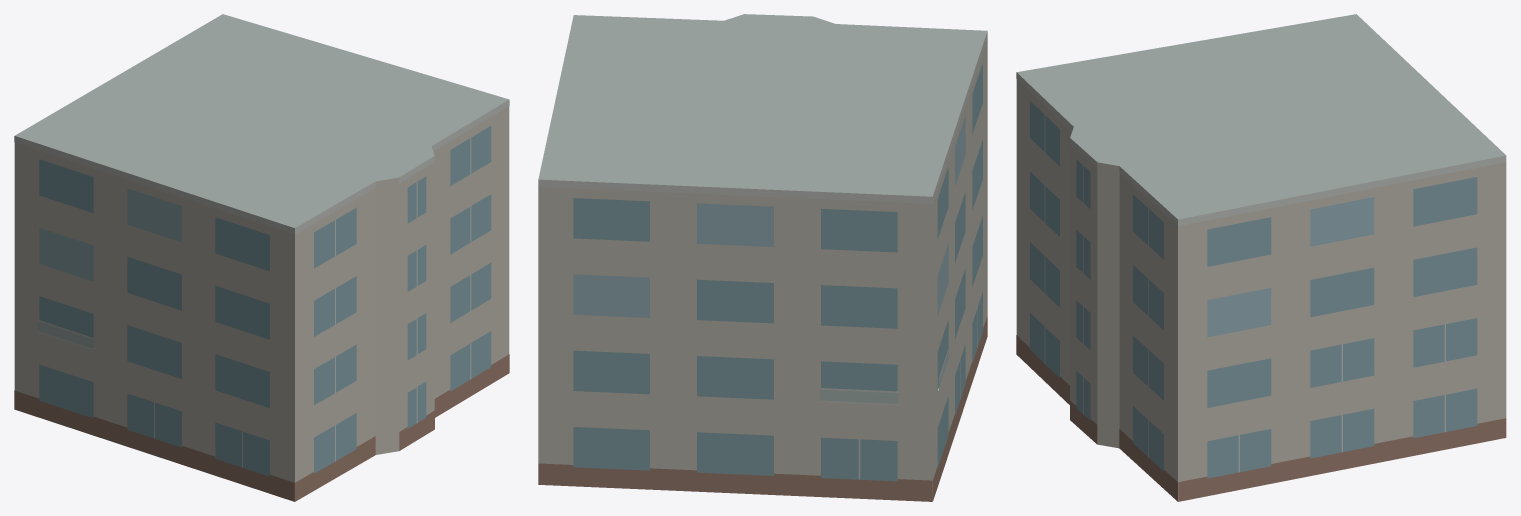
The model's file is survey-upis-32747340.glb.
3 views of the same model, side by side, from view 1: azimuth 30°, elevation 25°; view 2: azimuth 150°, elevation 25°; view 3: azimuth 270°, elevation 25° (orthographic). The views are drawn at different scales.
Visible parts, largest first — view 1: survey-upis-32747340.tmp; view 2: survey-upis-32747340.tmp; view 3: survey-upis-32747340.tmp.
Part boxes in pixels (x1=…): survey-upis-32747340.tmp: x1=14, y1=14, x2=509, y2=501; survey-upis-32747340.tmp: x1=538, y1=14, x2=987, y2=501; survey-upis-32747340.tmp: x1=1016, y1=14, x2=1506, y2=501.
Bounding box in the file's own units: 16.1 × 10.3 × 16.21.
